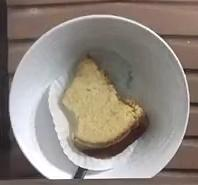bread: (61, 56, 144, 149)
